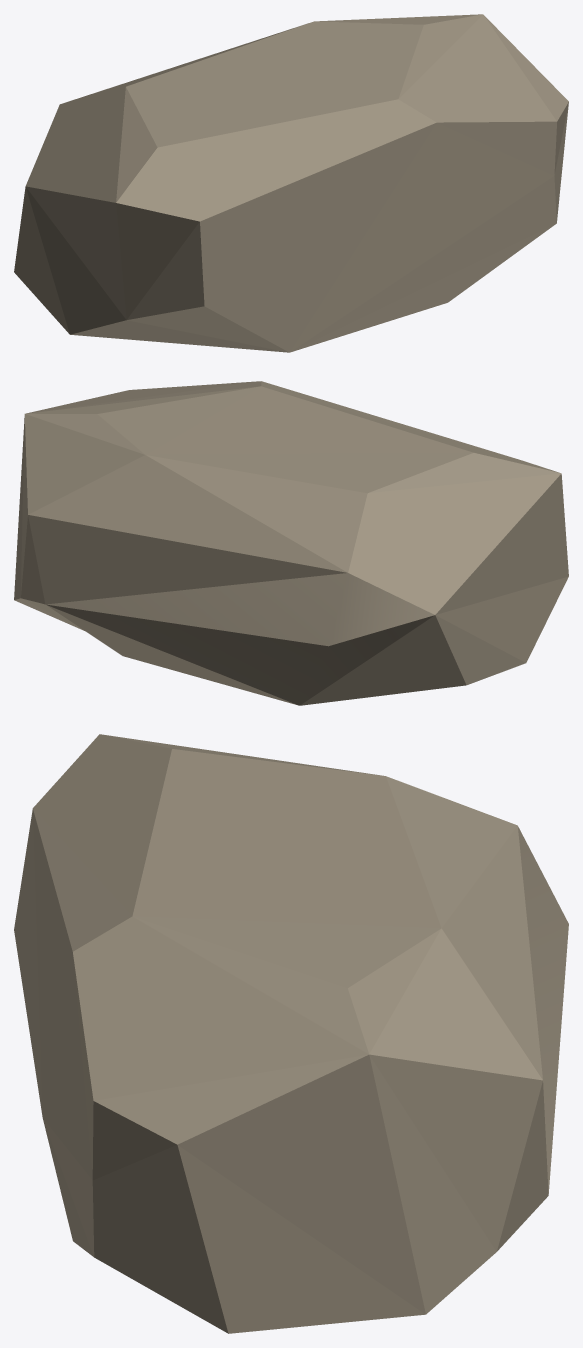
File: SM_Rock_04.glb
3 views of the same model, one above another, from view 1: azimuth 30°, elevation 25°; view 2: azimuth 150°, elevation 25°; view 3: azimuth 270°, elevation 25° (orthographic). The views are drawn at different scales.
Visible parts, largest first — view 1: SM_Rock_04; view 2: SM_Rock_04; view 3: SM_Rock_04.
Part boxes in pixels (box(x1,y1,x2,y2)): SM_Rock_04: box(14, 14, 568, 352); SM_Rock_04: box(14, 381, 568, 705); SM_Rock_04: box(14, 734, 568, 1333).
Size of the model in its own units: 0.6252 by 0.2811 by 0.4046.
Materials: 1 (1 with a texture image).
